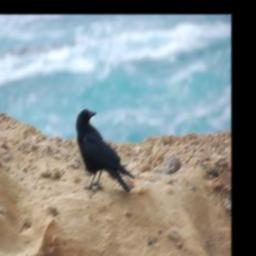Crow: (75, 105, 135, 195)
